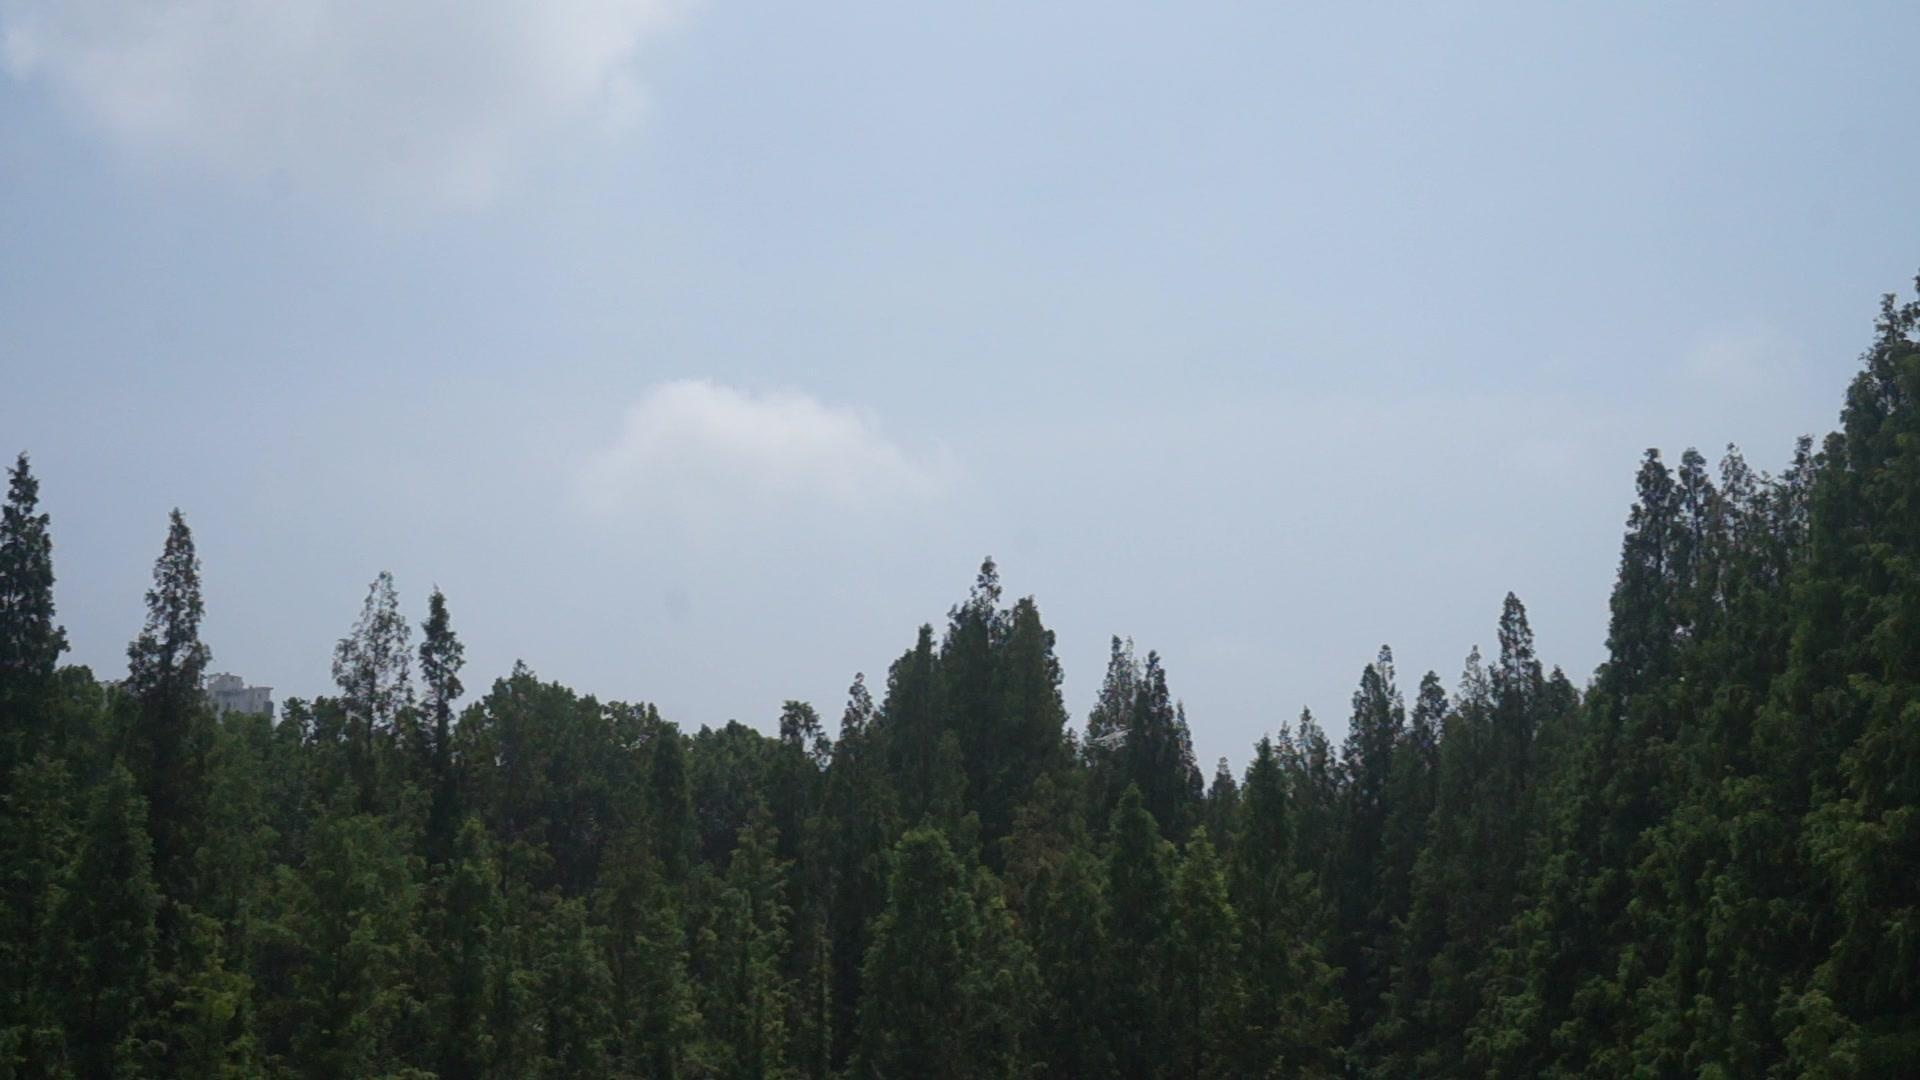UAV: (1095, 725, 1134, 752)
